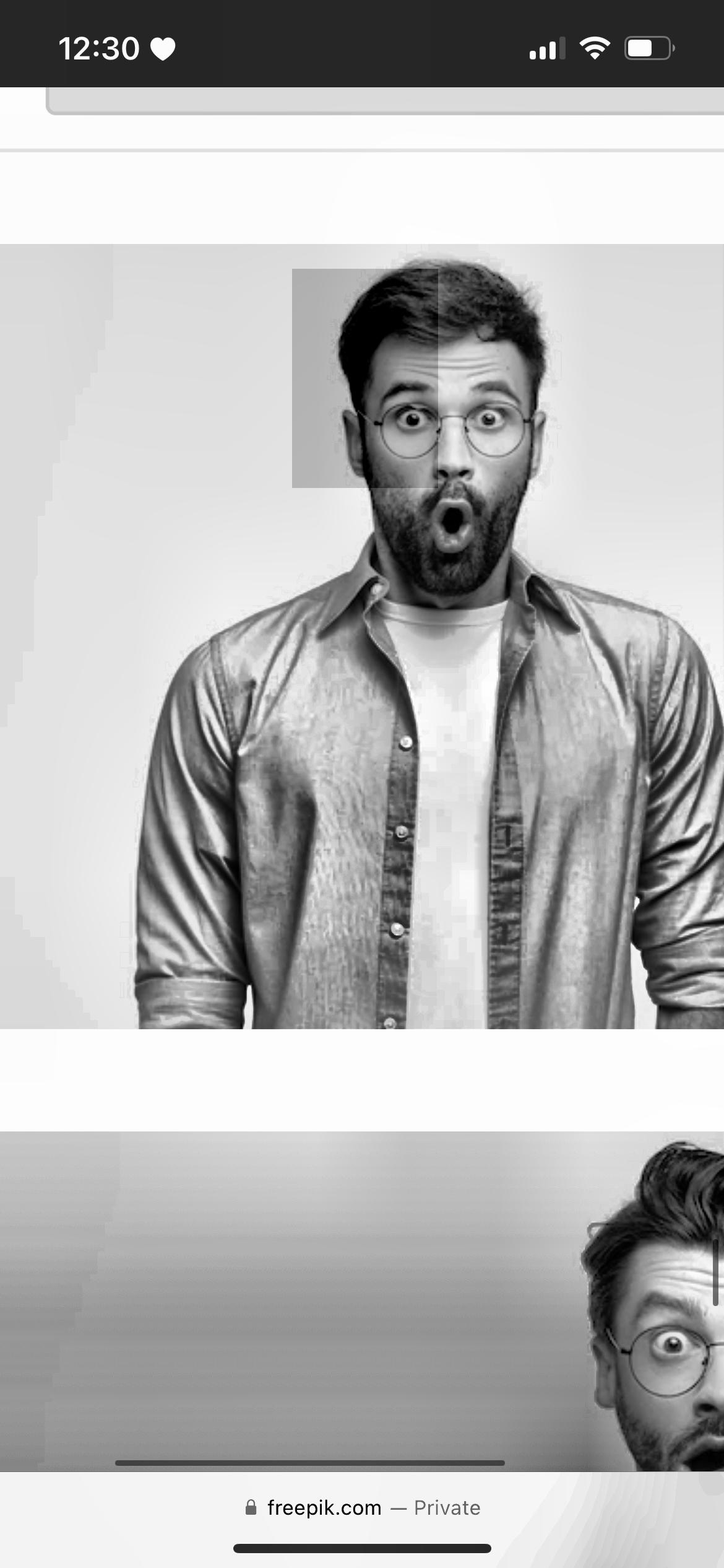surprised: (361, 332, 542, 603)
